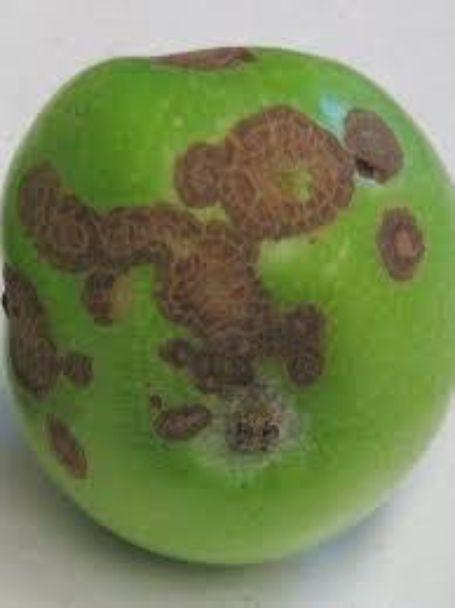SCAB: (15, 25, 446, 573)
